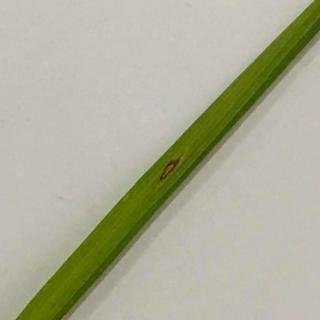Blast: (151, 144, 191, 197)
